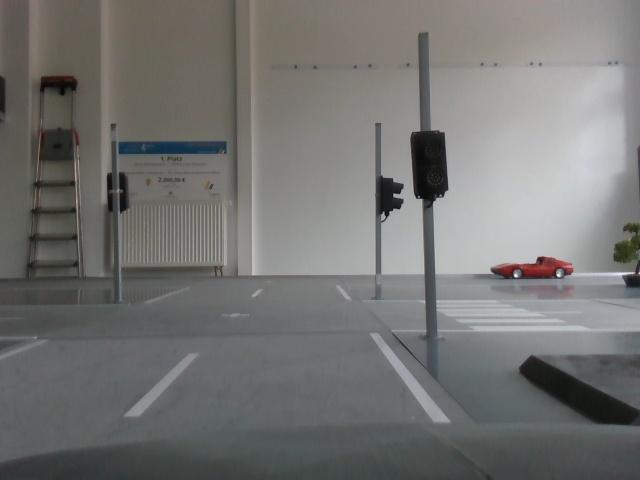car: (493, 245, 576, 283)
potted plant: (601, 222, 640, 285)
traffic light: (410, 124, 452, 206), (374, 176, 410, 223)
